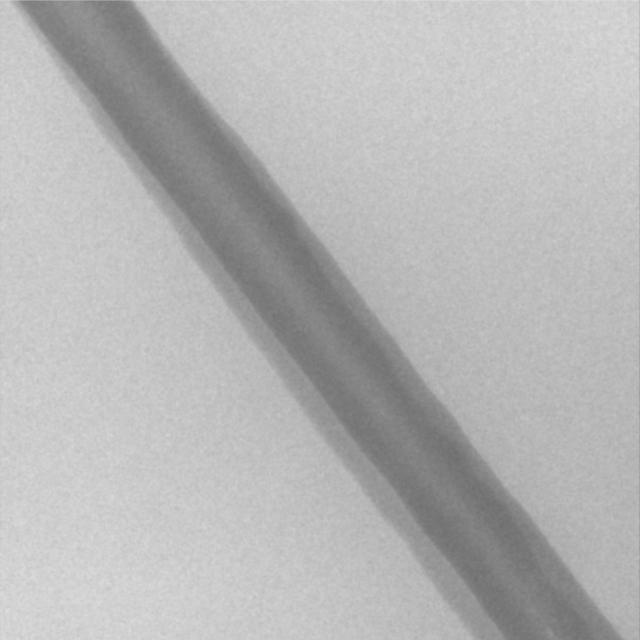air hole: (542, 627, 556, 636)
